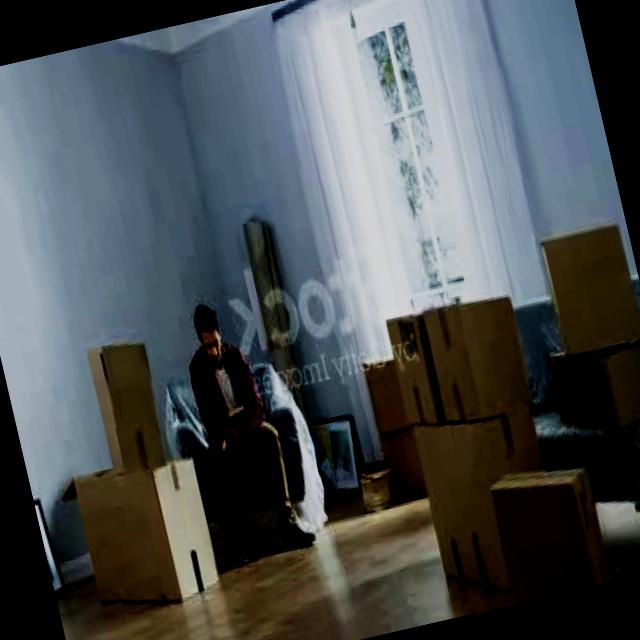Box: (75, 446, 228, 606), (414, 413, 550, 575), (498, 463, 612, 596), (426, 283, 529, 421), (545, 220, 640, 342), (542, 334, 640, 444)
